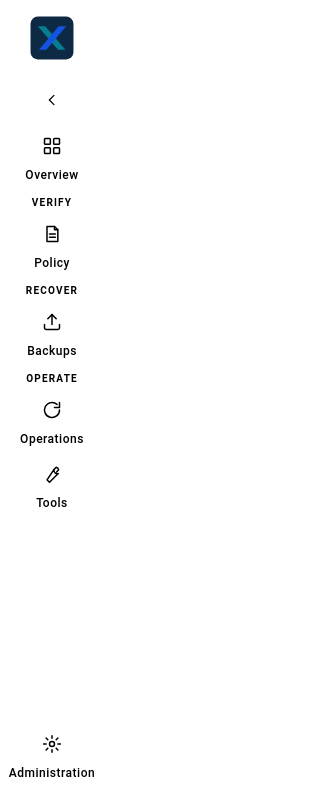
it: the rail (UI product review 2026-10-18, §2.3 / roadmap 1.1) › keeps Operations, Backups and Administration for a read-only session whose plane list does not hold them, and hides Tools entries it may not use
expect the text "Operations" is shown: met, box [20,430,84,448]
expect the text "Backups" is shown: met, box [27,342,77,360]
Click the button "Tools" at (52,485), box [12,458,92,512]
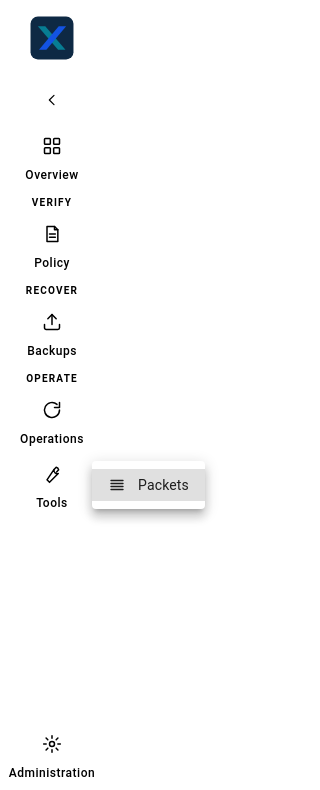
expect the menu items read "Packets", in this order: met, box [92,469,205,501]
